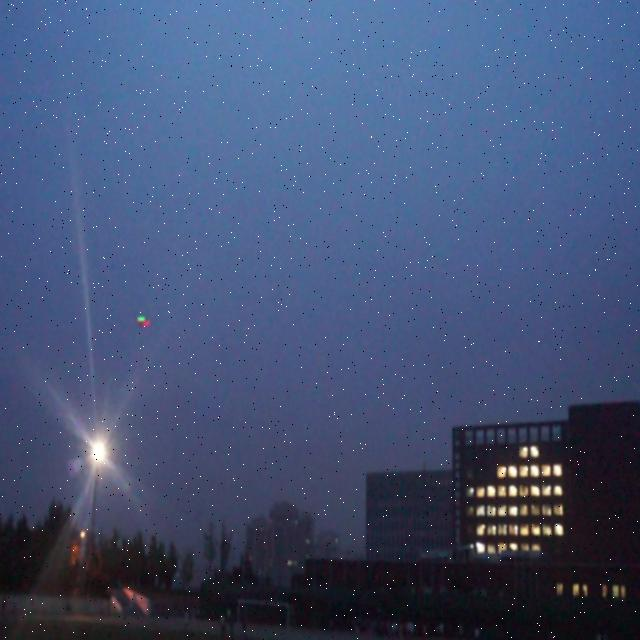UAV: (136, 316, 150, 326)
